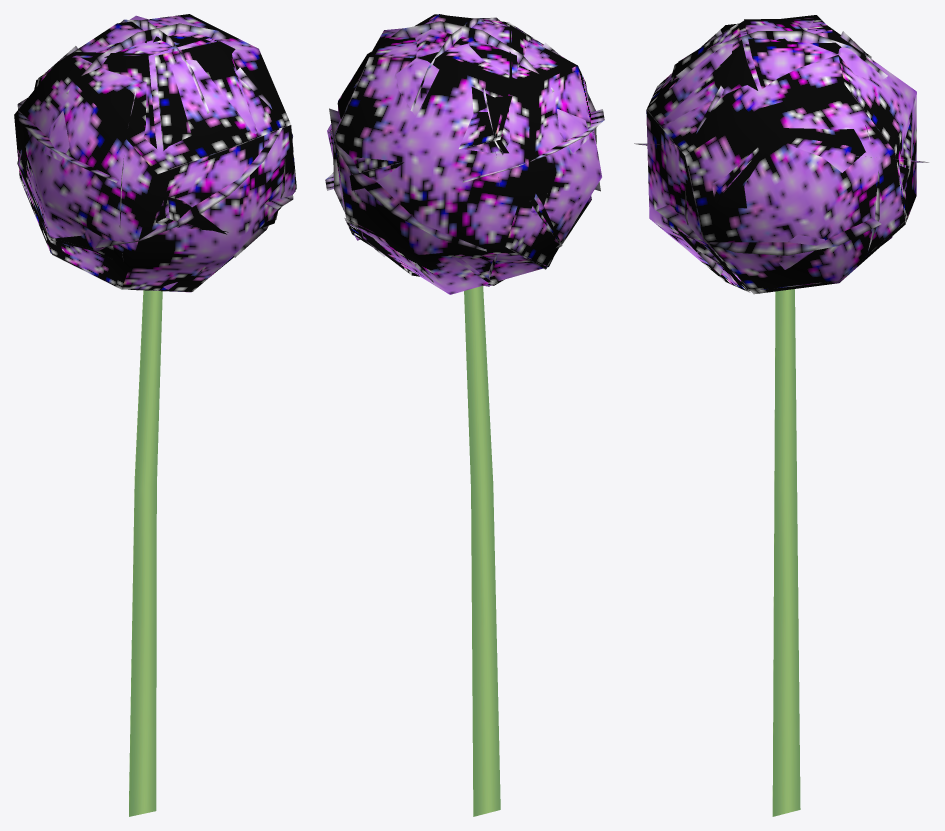
The model's file is P_Allium.obj.
3 views of the same model, side by side, from view 1: azimuth 30°, elevation 25°; view 2: azimuth 150°, elevation 25°; view 3: azimuth 270°, elevation 25° (orthographic).
Bounding box in the file's own units: 0.4159 × 1.25 × 0.4248.
